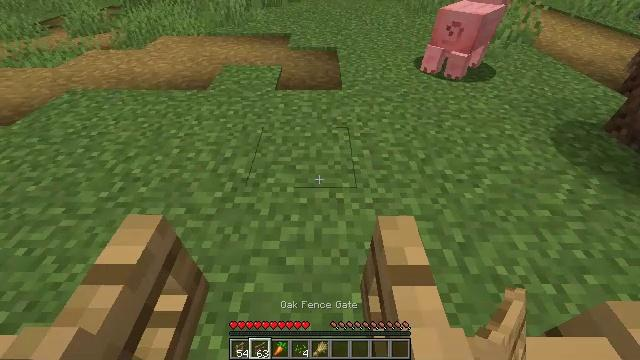pig: (420, 0, 505, 77)
